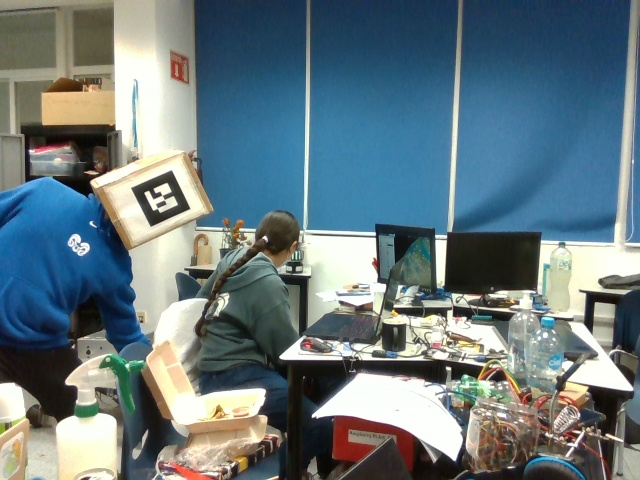ar4: (126, 165, 195, 234)
